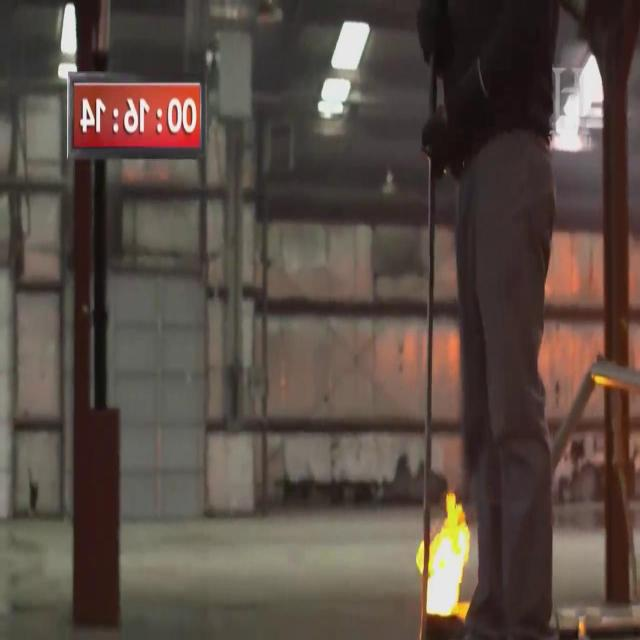fire: (412, 484, 476, 623)
